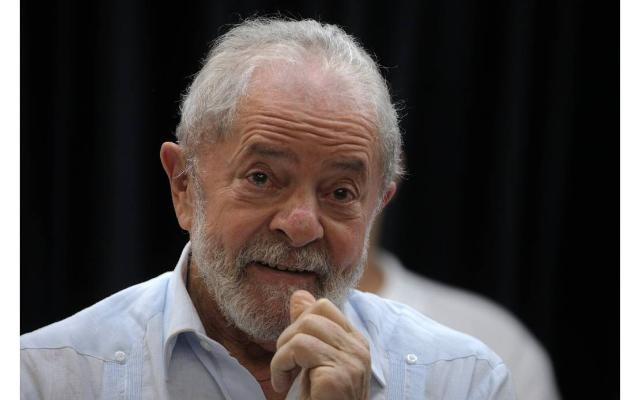forehead: (338, 122, 368, 154), (293, 116, 329, 142), (266, 114, 288, 144), (242, 113, 262, 141)
